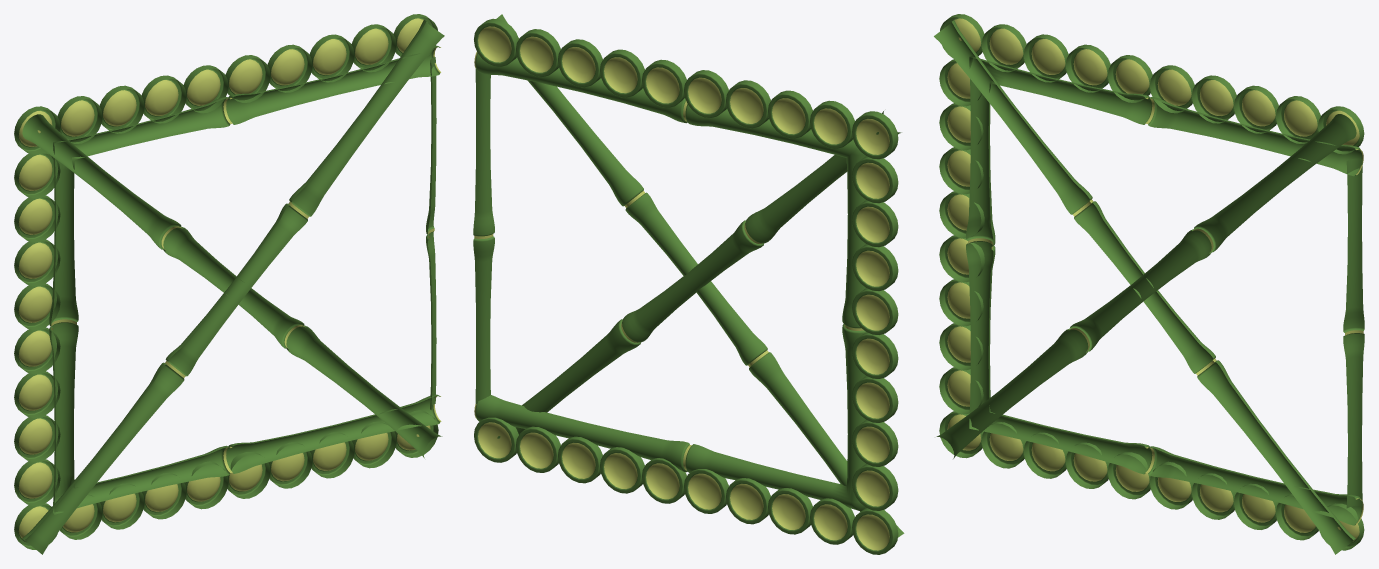
Rendered from Bamboo_Structure_Three_Face.fbx.
3 renders of one model, left to right at view 1: azimuth 30°, elevation 25°; view 2: azimuth 150°, elevation 25°; view 3: azimuth 330°, elevation 25°, orthographic.
Visible parts, largest first — view 1: Bamboo_Structure_Three_Faces; view 2: Bamboo_Structure_Three_Faces; view 3: Bamboo_Structure_Three_Faces.
Part boxes in pixels (<box>): Bamboo_Structure_Three_Faces: <box>14,14,444,554</box>; Bamboo_Structure_Three_Faces: <box>473,14,904,554</box>; Bamboo_Structure_Three_Faces: <box>934,14,1364,554</box>.
Size of the model in its own units: 100 by 100 by 6.14.
